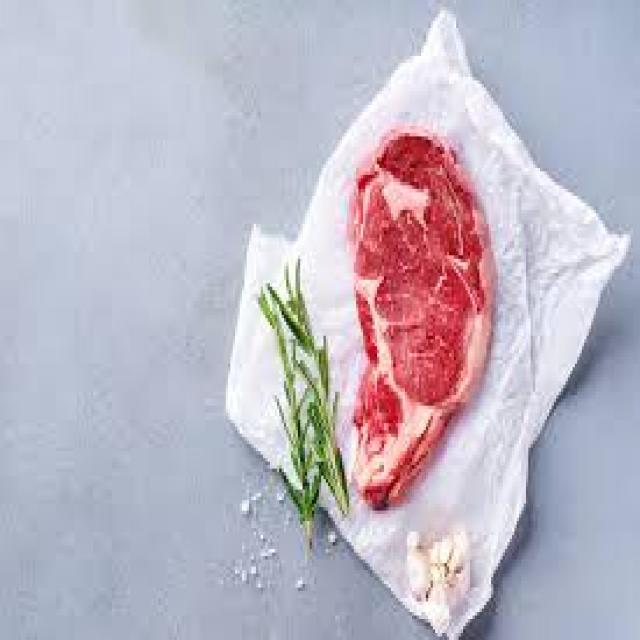beef: (351, 129, 496, 509)
